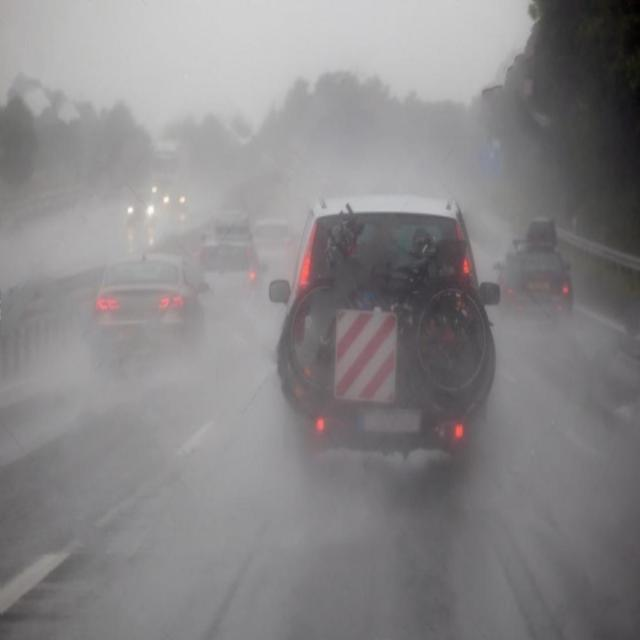bus: (152, 136, 180, 206)
car: (279, 202, 497, 483), (90, 255, 200, 352), (200, 245, 266, 318), (506, 249, 572, 310), (253, 211, 296, 262), (125, 189, 155, 226), (160, 180, 188, 212)
